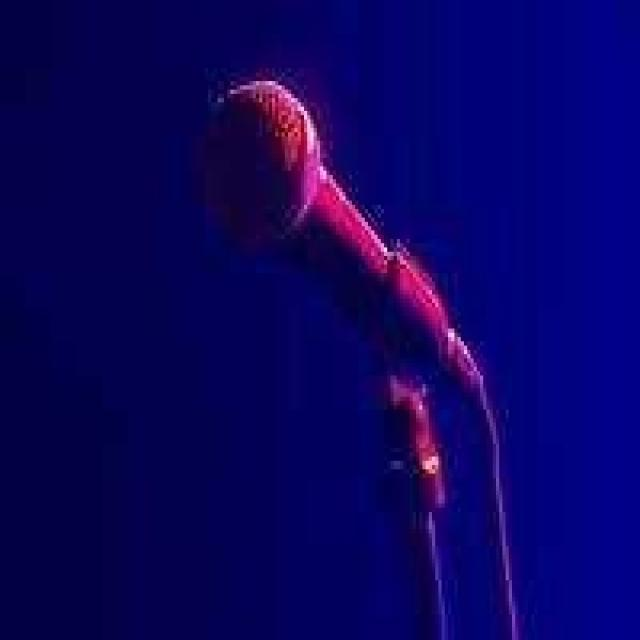microphone: (197, 77, 472, 433)
